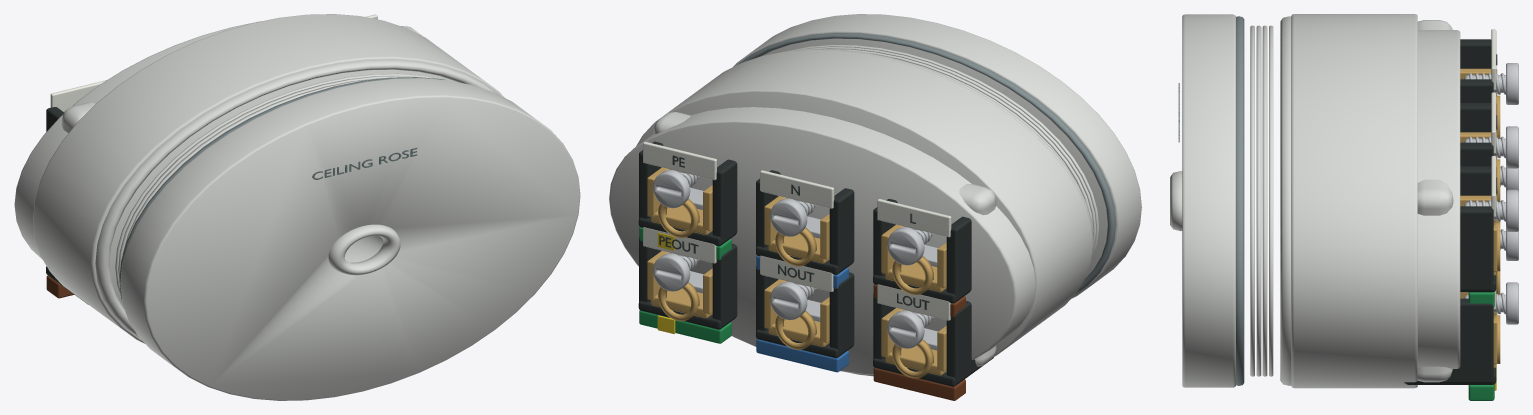
Rendered from rose_default.glb.
3 views of the same model, side by side, from view 1: azimuth 30°, elevation 25°; view 2: azimuth 150°, elevation 25°; view 3: azimuth 270°, elevation 25° (orthographic). The views are drawn at different scales.
Visible parts, largest first — view 1: part:cover · Satin moulded white plastic, part:body · Satin moulded white plastic, part:terminals · Satin moulded white plastic, Cord exit strain-relief, Cap seam, Moulded terminal legend pad, mark:CEILING ROSE; view 2: part:terminals · Satin moulded white plastic, part:body · Satin moulded white plastic, part:cover · Satin moulded white plastic, Cap seam, detail:terminal-clamp:L · Detail moulded engineering polymer, detail:terminal-clamp:N · Detail moulded engineering polymer, detail:terminal-clamp:PE · Detail moulded engineering polyme, detail:terminal-clamp:LOUT · Detail moulded engineering poly, detail:terminal-clamp:PEOUT · Detail moulded engineering pol, detail:terminal-clamp:NOUT · Detail moulded engineering poly, detail:terminal-clamp:LOUT · Detail machined brass, detail:terminal-clamp:N · Detail machined brass (+19 smaller); view 3: part:body · Satin moulded white plastic, part:cover · Satin moulded white plastic, part:terminals · Satin moulded white plastic, detail:terminal-clamp:PE · Detail moulded engineering polyme, Cap seam, detail:terminal-clamp:PEOUT · Detail moulded engineering pol, detail:terminal-clamp:N · Detail moulded engineering polymer, detail:terminal-clamp:L · Detail moulded engineering polymer, detail:terminal-clamp:PE · Detail zinc plated fixing, detail:terminal-clamp:N · Detail zinc plated fixing, detail:terminal-clamp:L · Detail zinc plated fixing, detail:terminal-clamp:PEOUT · Detail zinc plated fixing (+12 smaller).
Part boxes in pixels (x1,y1,x2,y2): part:cover · Satin moulded white plastic: (115,73,580,400); part:body · Satin moulded white plastic: (33,14,504,343); part:terminals · Satin moulded white plastic: (14,21,421,259); Cord exit strain-relief: (328,224,400,275); Cap seam: (119,77,445,301); Moulded terminal legend pad: (50,80,106,111); mark:CEILING ROSE: (312,147,417,179); part:terminals · Satin moulded white plastic: (609,107,1035,374); part:body · Satin moulded white plastic: (636,49,1093,376); part:cover · Satin moulded white plastic: (733,14,1141,298); Cap seam: (737,33,1115,296); detail:terminal-clamp:L · Detail moulded engineering polymer: (873,199,971,303); detail:terminal-clamp:N · Detail moulded engineering polymer: (756,170,854,274); detail:terminal-clamp:PE · Detail moulded engineering polyme: (638,141,737,246); detail:terminal-clamp:LOUT · Detail moulded engineering poly: (873,294,993,386); detail:terminal-clamp:PEOUT · Detail moulded engineering pol: (638,237,737,329); detail:terminal-clamp:NOUT · Detail moulded engineering poly: (756,266,854,358); detail:terminal-clamp:LOUT · Detail machined brass: (881,308,946,378); detail:terminal-clamp:N · Detail machined brass: (764,196,829,266); part:body · Satin moulded white plastic: (1280,14,1417,388); part:cover · Satin moulded white plastic: (1182,14,1273,387); part:terminals · Satin moulded white plastic: (1417,20,1460,382); detail:terminal-clamp:PE · Detail moulded engineering polyme: (1460,166,1496,292); Cap seam: (1236,16,1244,385); detail:terminal-clamp:PEOUT · Detail moulded engineering pol: (1404,298,1496,384); detail:terminal-clamp:N · Detail moulded engineering polymer: (1460,103,1493,166); detail:terminal-clamp:L · Detail moulded engineering polymer: (1460,39,1493,102); detail:terminal-clamp:PE · Detail zinc plated fixing: (1464,189,1518,231); detail:terminal-clamp:N · Detail zinc plated fixing: (1464,126,1518,168); detail:terminal-clamp:L · Detail zinc plated fixing: (1464,63,1518,104); detail:terminal-clamp:PEOUT · Detail zinc plated fixing: (1464,282,1518,324).
Size of the model in its own units: 0.6492 by 0.4074 by 0.4288.
